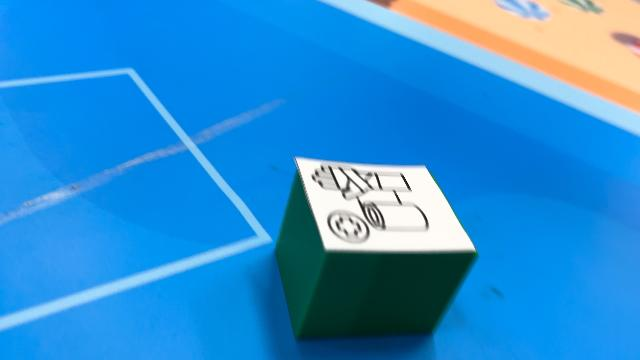bandage: (274, 156, 478, 340)
